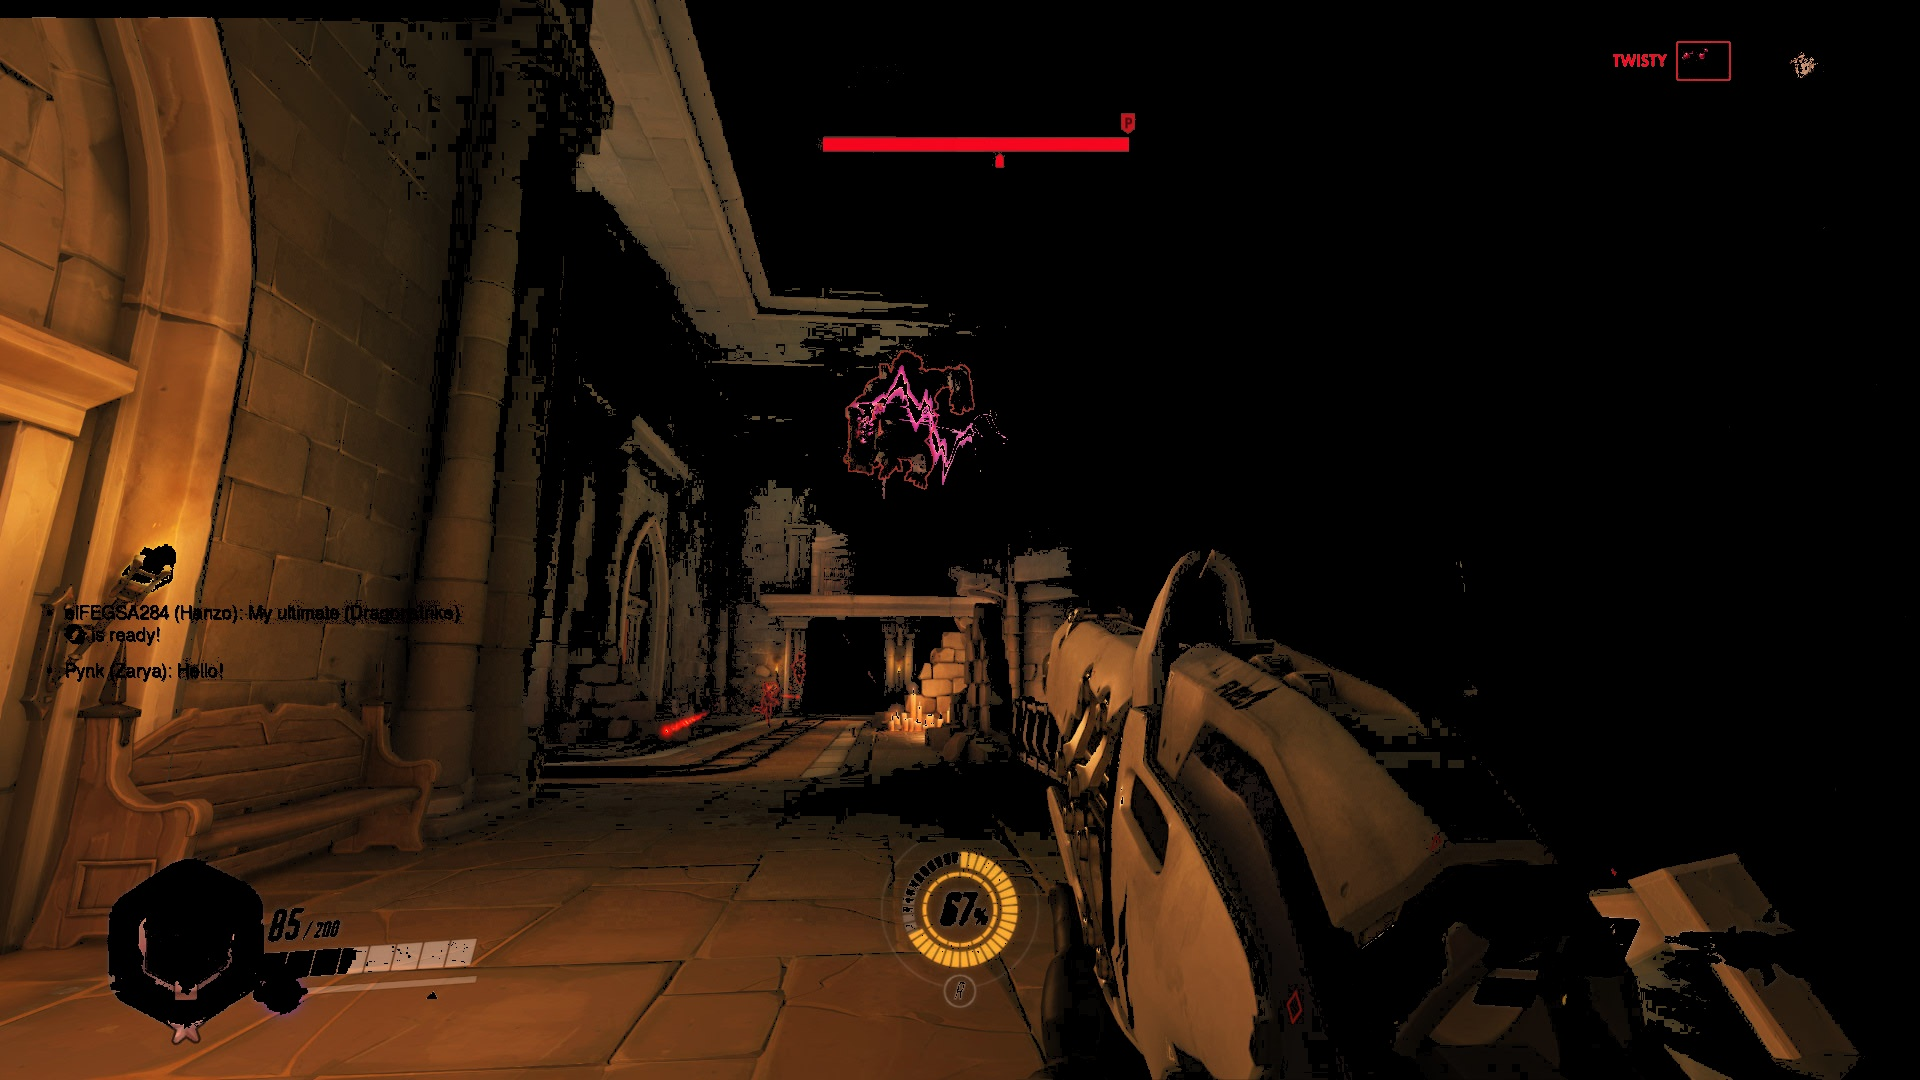widowmaker: (789, 651, 808, 686)
